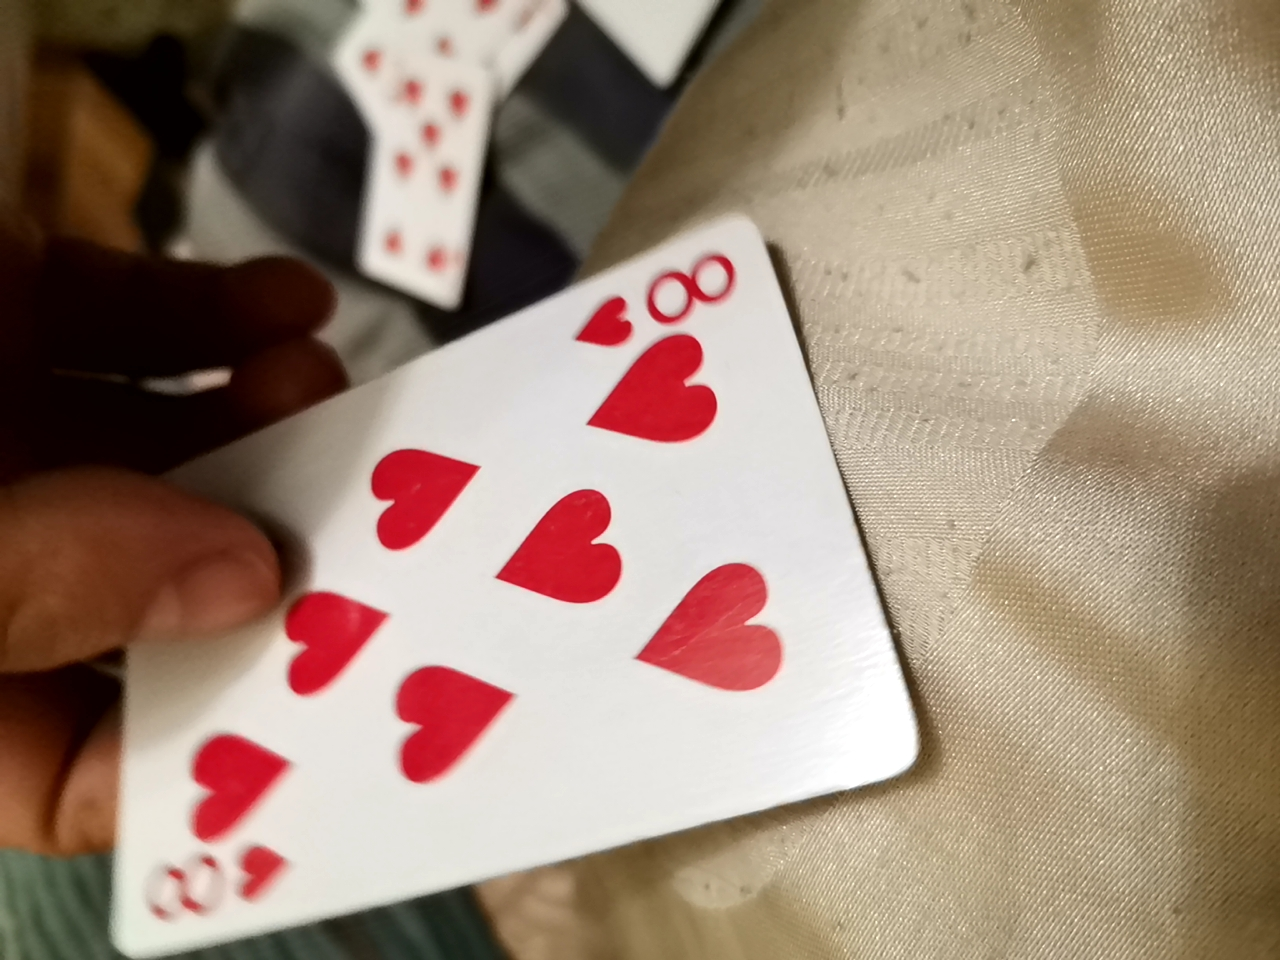hx 8: (124, 209, 911, 948)
